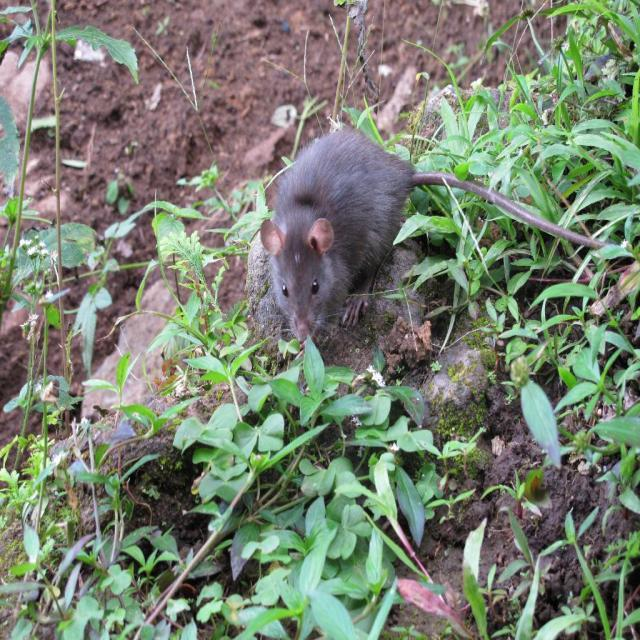rat: (258, 123, 614, 344)
